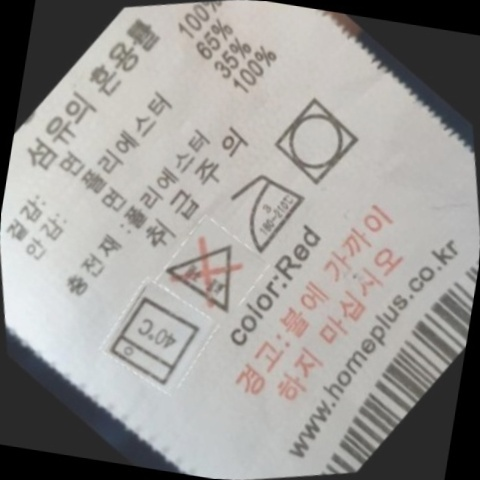40C: (100, 282, 219, 399)
iron_high: (223, 155, 321, 261)
non_chlorine_bleach: (158, 220, 263, 325)
tumble_dry_normal: (258, 76, 382, 205)
